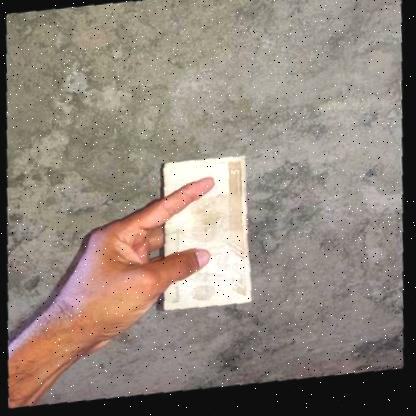five-back-vef: (155, 153, 257, 319)
